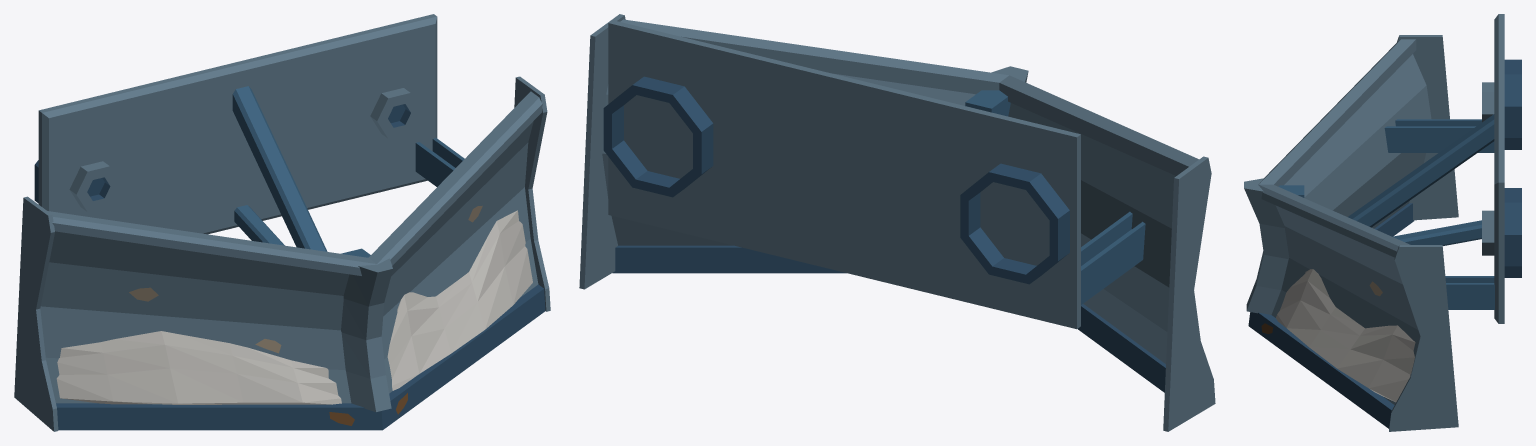
File: loco-snowplough-e13d84.glb
3 renders of one model, left to right at view 1: azimuth 30°, elevation 25°; view 2: azimuth 150°, elevation 25°; view 3: azimuth 270°, elevation 25°, orthographic. The views are drawn at different scales.
Parts seen in each view (by area): view 1: plough; view 2: plough; view 3: plough.
Boxes of the visible parts, bbox=[...] form: plough: bbox=[14, 14, 550, 431]; plough: bbox=[579, 14, 1215, 431]; plough: bbox=[1244, 14, 1521, 431].
Bounding box in the file's own units: 2.89 × 1.45 × 1.6.
